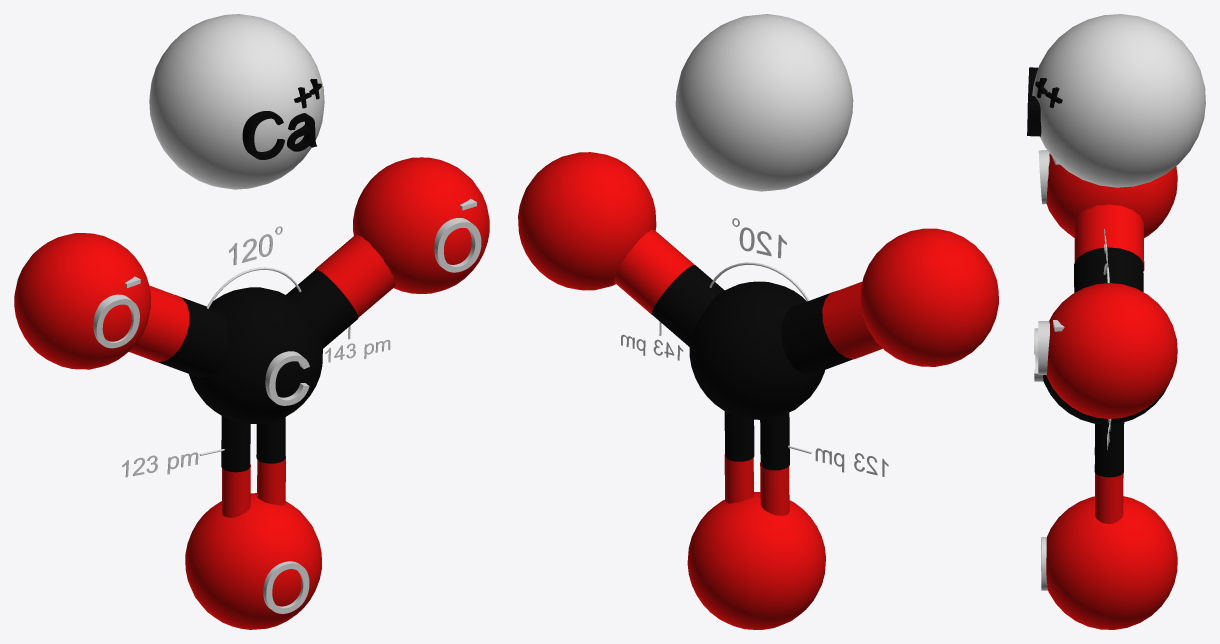
The model's file is uploads_files_2040085_chalkLabel.FBX.
The picture shows the model from 3 angles, left to right: view 1: azimuth 30°, elevation 25°; view 2: azimuth 150°, elevation 25°; view 3: azimuth 270°, elevation 25°; orthographic projection.
Parts seen in each view (by area): view 1: Sphere069, Sphere068, Sphere066, Sphere067, Sphere065, Cylinder123, Cylinder126, Cylinder125, Cylinder124, Text101, Cylinder121, Cylinder122 (+6 smaller); view 2: Sphere069, Sphere068, Sphere066, Sphere067, Sphere065, Cylinder123, Cylinder126, Cylinder124, Cylinder125, Cylinder121, Cylinder122, Cylinder127 (+1 smaller); view 3: Sphere069, Sphere067, Sphere066, Sphere068, Cylinder125, Cylinder126, Cylinder127, Cylinder128, Sphere065, Text101, Text097, Text098 (+2 smaller).
Boxes of the visible parts, bbox=[...] form: Sphere069: bbox=[149, 14, 324, 189]; Sphere068: bbox=[14, 233, 151, 369]; Sphere066: bbox=[185, 493, 321, 629]; Sphere067: bbox=[353, 157, 489, 293]; Sphere065: bbox=[189, 287, 322, 423]; Cylinder123: bbox=[315, 234, 395, 317]; Cylinder126: bbox=[158, 295, 228, 377]; Cylinder125: bbox=[129, 285, 189, 362]; Cylinder124: bbox=[286, 269, 358, 348]; Text101: bbox=[242, 111, 316, 159]; Cylinder121: bbox=[221, 416, 250, 472]; Cylinder122: bbox=[222, 464, 250, 517]; Sphere069: bbox=[675, 14, 853, 191]; Sphere068: bbox=[860, 228, 998, 366]; Sphere066: bbox=[687, 492, 825, 629]; Sphere067: bbox=[518, 152, 656, 290]; Sphere065: bbox=[689, 281, 824, 419]; Cylinder123: bbox=[614, 229, 694, 314]; Cylinder126: bbox=[781, 290, 852, 375]; Cylinder124: bbox=[652, 265, 724, 346]; Cylinder125: bbox=[822, 281, 882, 359]; Cylinder121: bbox=[760, 413, 789, 470]; Cylinder122: bbox=[760, 462, 789, 515]; Cylinder127: bbox=[724, 411, 754, 461]; Sphere069: bbox=[1032, 14, 1205, 187]; Sphere067: bbox=[1046, 283, 1177, 418]; Sphere066: bbox=[1046, 496, 1177, 629]; Sphere068: bbox=[1046, 153, 1177, 237]; Cylinder125: bbox=[1074, 204, 1144, 271]; Cylinder126: bbox=[1074, 247, 1143, 292]; Cylinder127: bbox=[1094, 422, 1124, 477]; Cylinder128: bbox=[1095, 473, 1123, 523]; Sphere065: bbox=[1043, 375, 1169, 424]; Text101: bbox=[1027, 67, 1041, 136]; Text097: bbox=[1038, 321, 1049, 374]; Text098: bbox=[1038, 150, 1049, 204].
Bounding box in the file's own units: 35.99 × 45.2 × 12.3.
